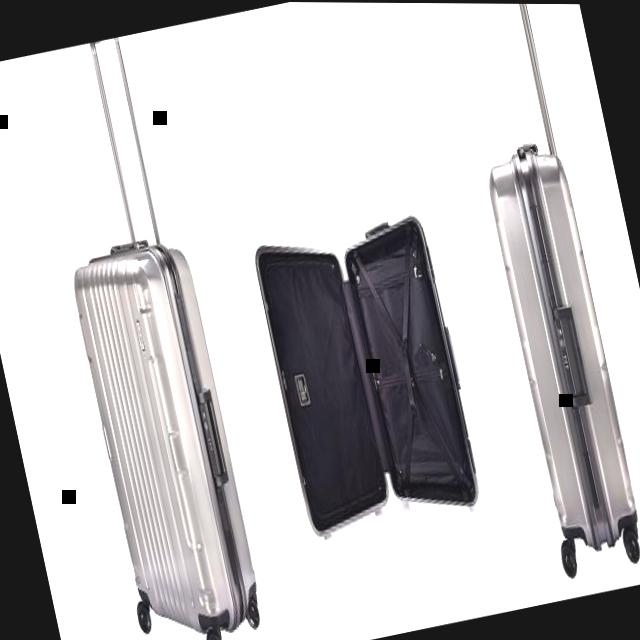luggage: (58, 220, 272, 640), (241, 194, 492, 552), (471, 124, 640, 572)
